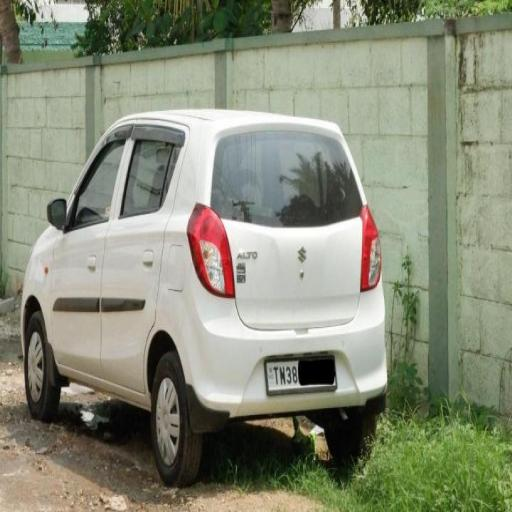License: (262, 357, 340, 394)
